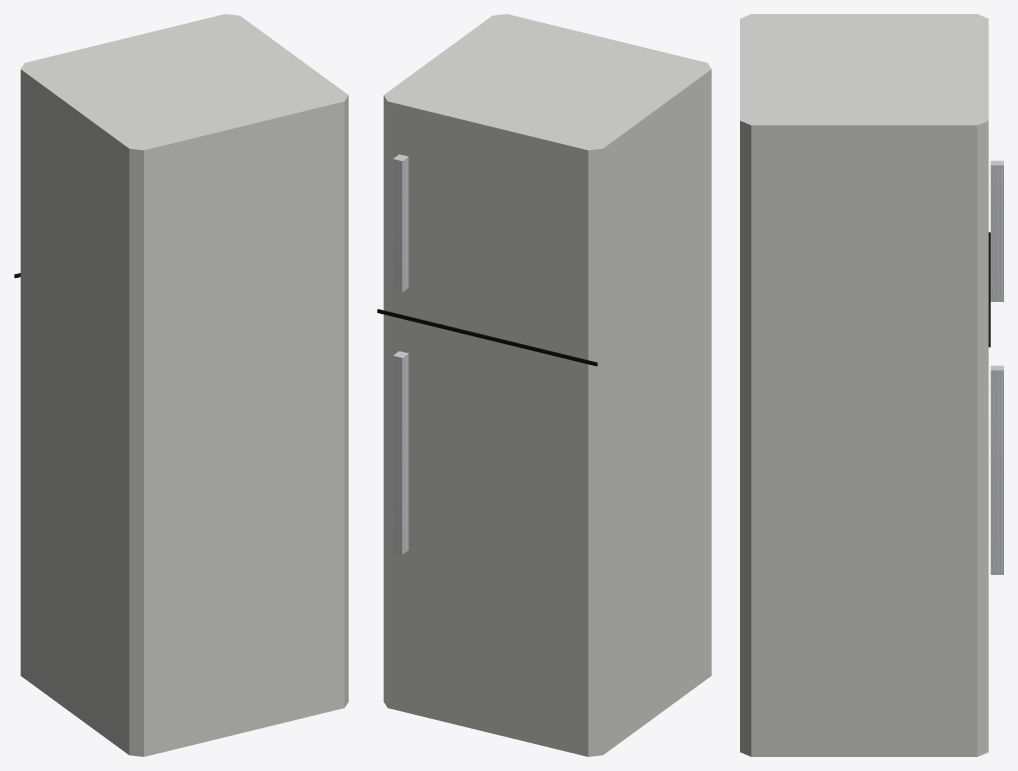
The model's file is fridge.obj.
3 renders of one model, left to right at view 1: azimuth 30°, elevation 25°; view 2: azimuth 150°, elevation 25°; view 3: azimuth 270°, elevation 25°, orthographic. The views are drawn at different scales.
Visible parts, largest first — view 1: fridge; view 2: fridge; view 3: fridge.
Part boxes in pixels (bbox=[...]): fridge: bbox=[14, 14, 348, 756]; fridge: bbox=[377, 14, 711, 756]; fridge: bbox=[740, 14, 1003, 756].
Size of the model in its own units: 0.7 by 1.85 by 0.7.
3 materials, 1 textured.
